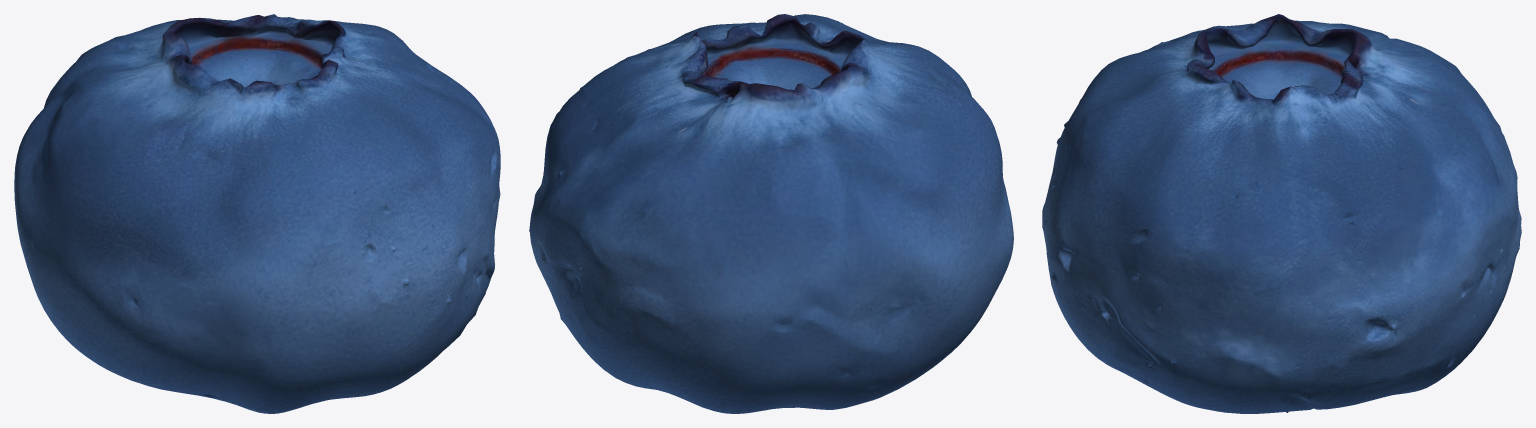
File: blueberry.glb
The picture shows the model from 3 angles, left to right: view 1: azimuth 30°, elevation 25°; view 2: azimuth 150°, elevation 25°; view 3: azimuth 270°, elevation 25°; orthographic projection.
Parts seen in each view (by area): view 1: tripo_node_5269564b-9036-4aa3-b851-3bdda9d65e09; view 2: tripo_node_5269564b-9036-4aa3-b851-3bdda9d65e09; view 3: tripo_node_5269564b-9036-4aa3-b851-3bdda9d65e09.
Boxes of the visible parts, x1=… form: tripo_node_5269564b-9036-4aa3-b851-3bdda9d65e09: x1=14, y1=14, x2=500, y2=413; tripo_node_5269564b-9036-4aa3-b851-3bdda9d65e09: x1=529, y1=14, x2=1013, y2=413; tripo_node_5269564b-9036-4aa3-b851-3bdda9d65e09: x1=1042, y1=14, x2=1521, y2=413.
Bounding box in the file's own units: 0.9781 × 0.7189 × 0.9824.
Materials: 1 (1 with a texture image).
